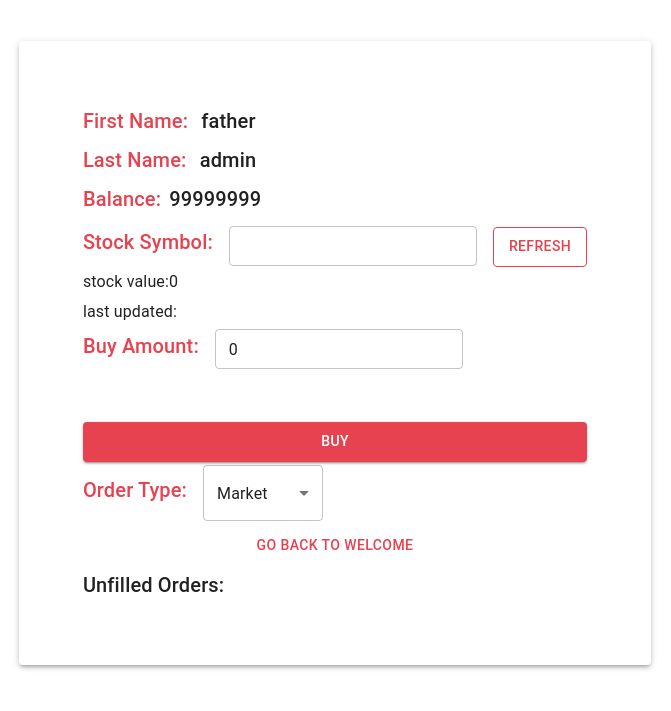
Test Buy component › displays error message when stock symbol is not provided
The image size is (671, 711).
Click the button "Buy": coordinates (335, 442) [83,422,587,462]
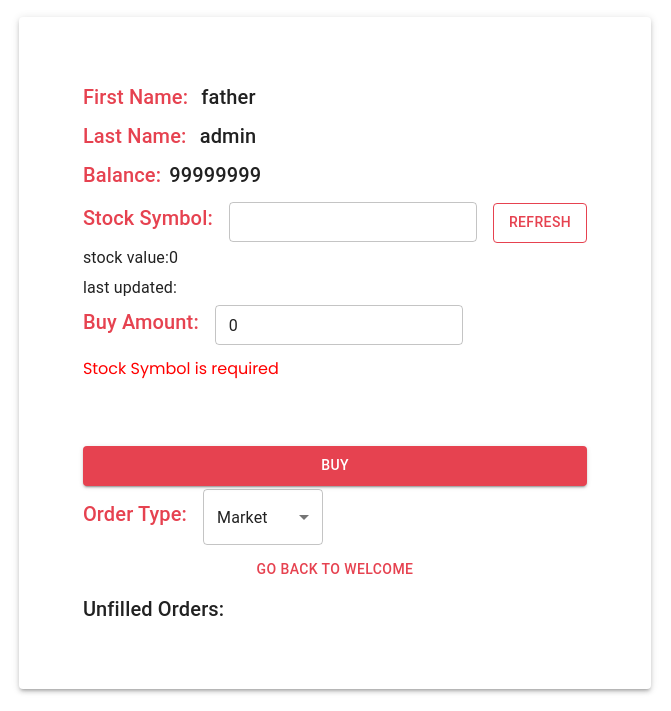
Expected: the text "Stock Symbol is required" is shown, [83,357,279,380]
